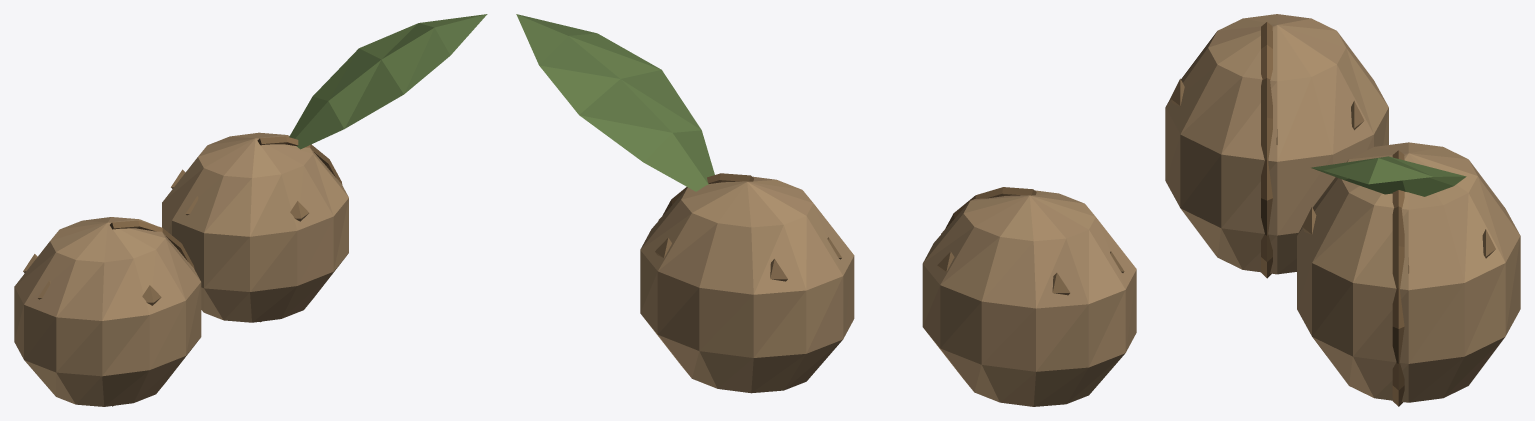
Rendered from seed_cherry_wild.glb.
3 renders of one model, left to right at view 1: azimuth 30°, elevation 25°; view 2: azimuth 150°, elevation 25°; view 3: azimuth 270°, elevation 25°, orthographic. The views are drawn at different scales.
Parts seen in each view (by area): view 1: seed; view 2: seed; view 3: seed.
Part boxes in pixels (box(x1,y1,x2,y2)): seed: box(14, 14, 487, 406); seed: box(516, 14, 1136, 406); seed: box(1165, 14, 1520, 406).
Bounding box in the file's own units: 0.3787 × 0.192 × 0.1753.
